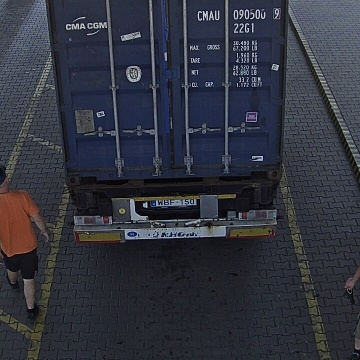serial_id: (197, 8, 280, 21)
